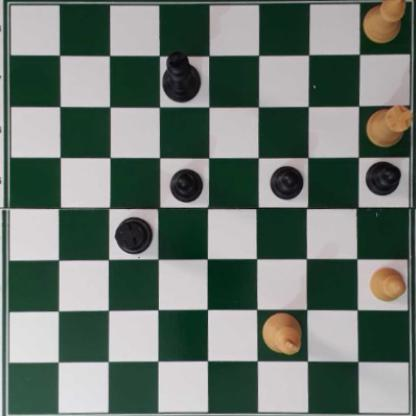black-king: (159, 49, 202, 101)
black-pawn: (167, 166, 204, 203), (365, 158, 401, 195), (269, 164, 304, 200)
black-rook: (114, 216, 154, 256)
white-bishop: (361, 0, 408, 43)
white-king: (260, 309, 301, 355)
white-pawn: (367, 264, 405, 303)
white-rook: (366, 104, 411, 146)
